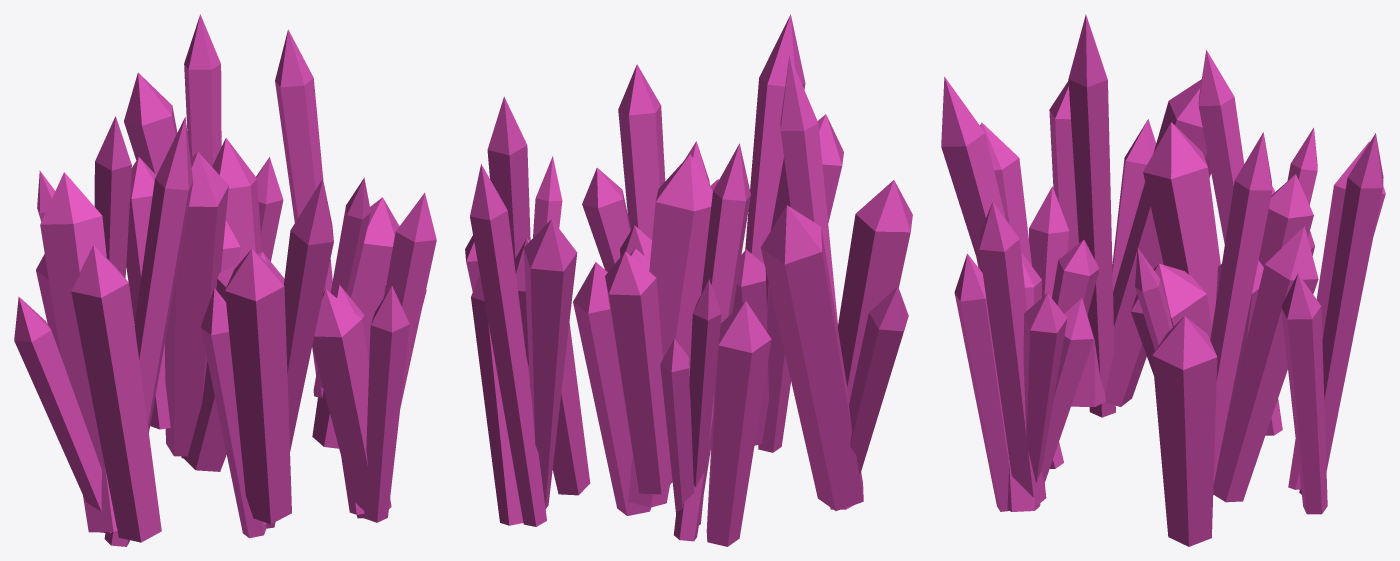
Rendered from crystals_5.fbx.
3 renders of one model, left to right at view 1: azimuth 30°, elevation 25°; view 2: azimuth 150°, elevation 25°; view 3: azimuth 270°, elevation 25°, orthographic. The views are drawn at different scales.
Parts seen in each view (by area): view 1: crystals5.001; view 2: crystals5.001; view 3: crystals5.001.
Part boxes in pixels (x1,y1,x2,y2): crystals5.001: [14, 14, 436, 546]; crystals5.001: [465, 14, 912, 546]; crystals5.001: [941, 14, 1385, 546].
Size of the model in its own units: 417 by 409 by 385.
